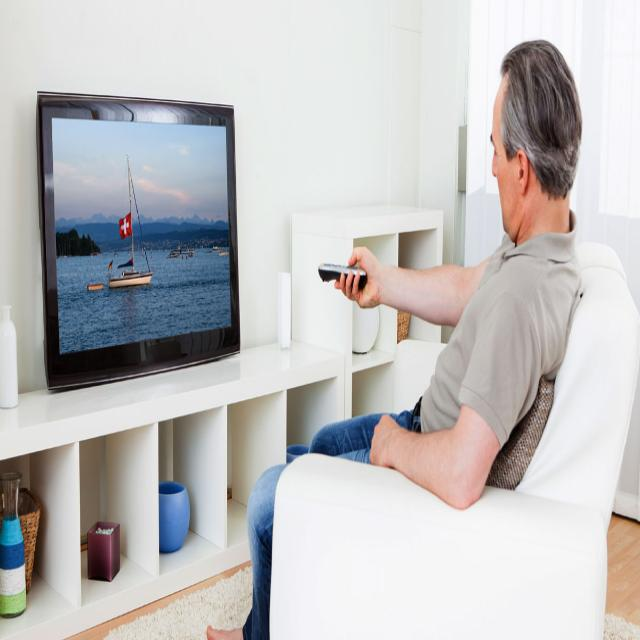tv-person: (26, 23, 595, 555)
